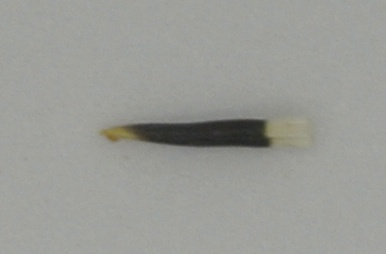เมล็ดดีติดกัน: (95, 118, 318, 153)
